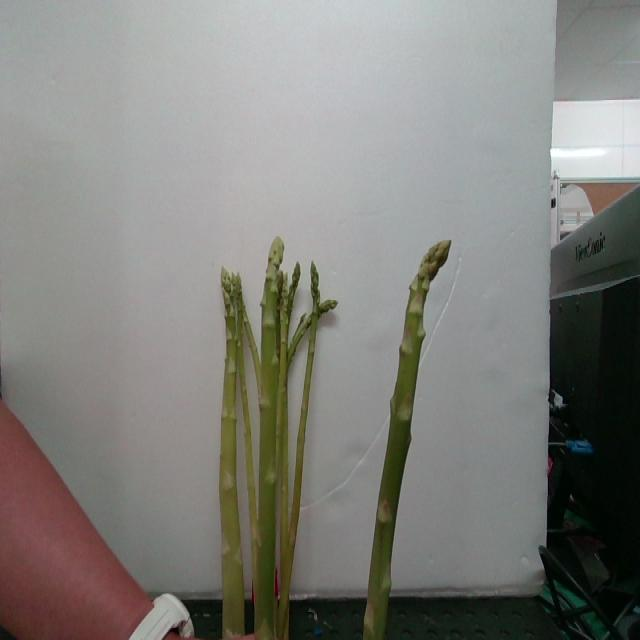aspargus: (362, 241, 452, 640), (256, 238, 287, 640)
